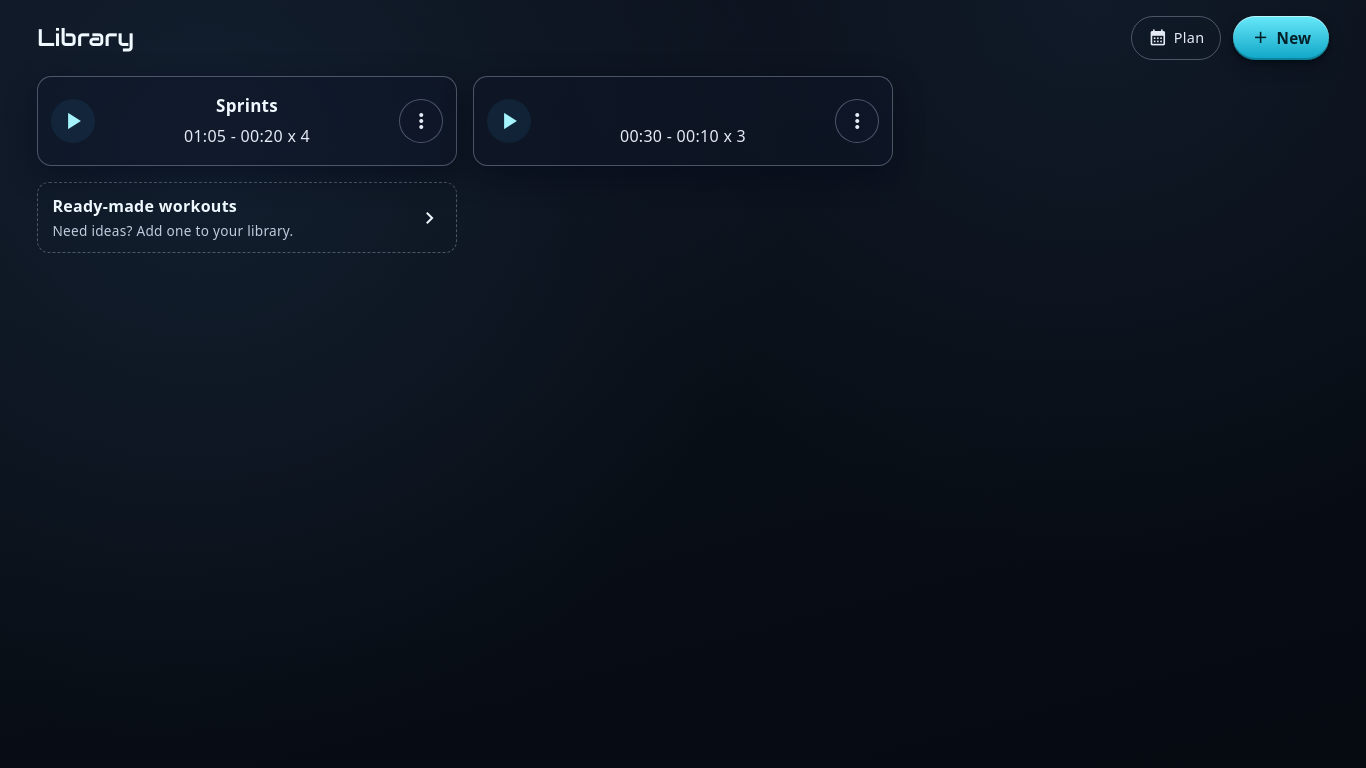
it: WorkoutLibraryComponent › with workouts › details › lists its runs, newest first, linking to them in the history
Click the 1st button with class "workout-card__action--menu" at (421, 121), box [399,99,443,143]
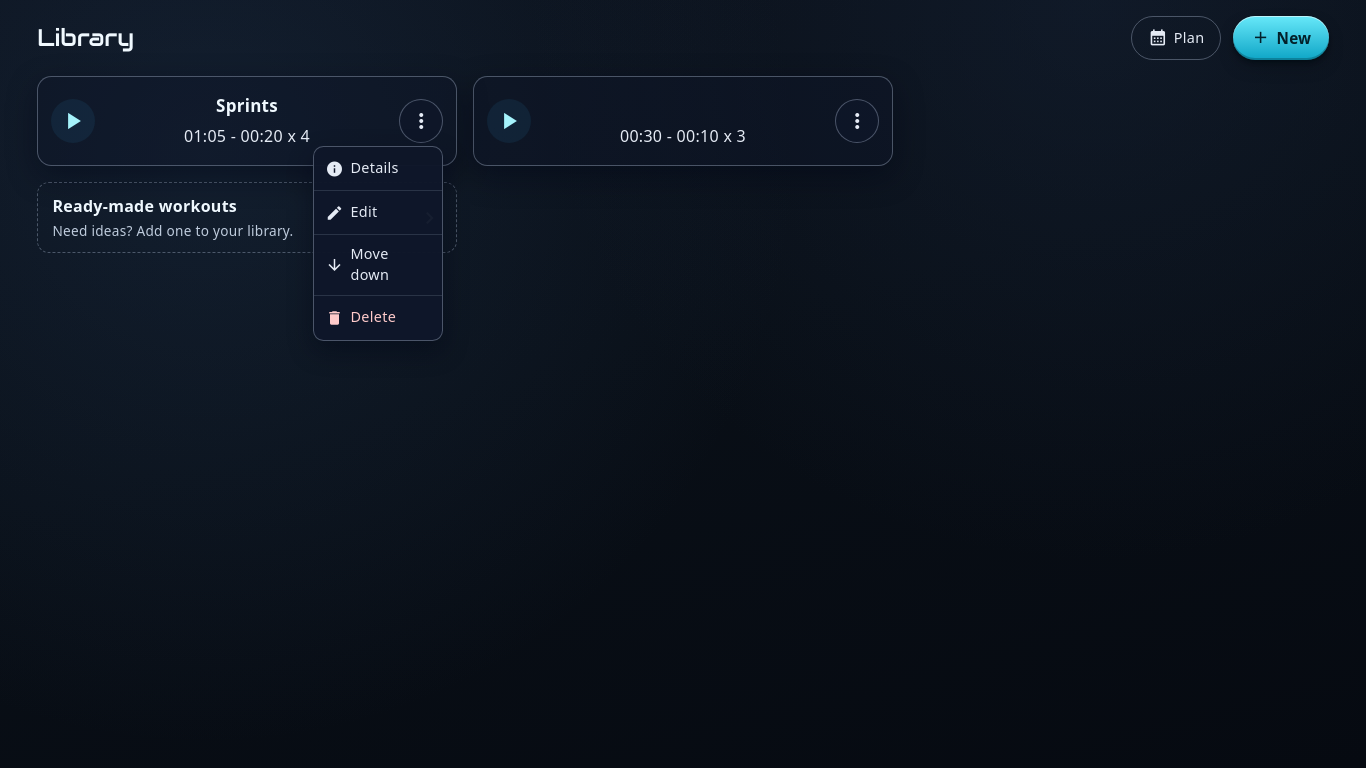
Expected: the button with class "workout-card__menu-item--details" is shown
Click the button with class "workout-card__menu-item--details" at (378, 169), box [314,147,442,191]
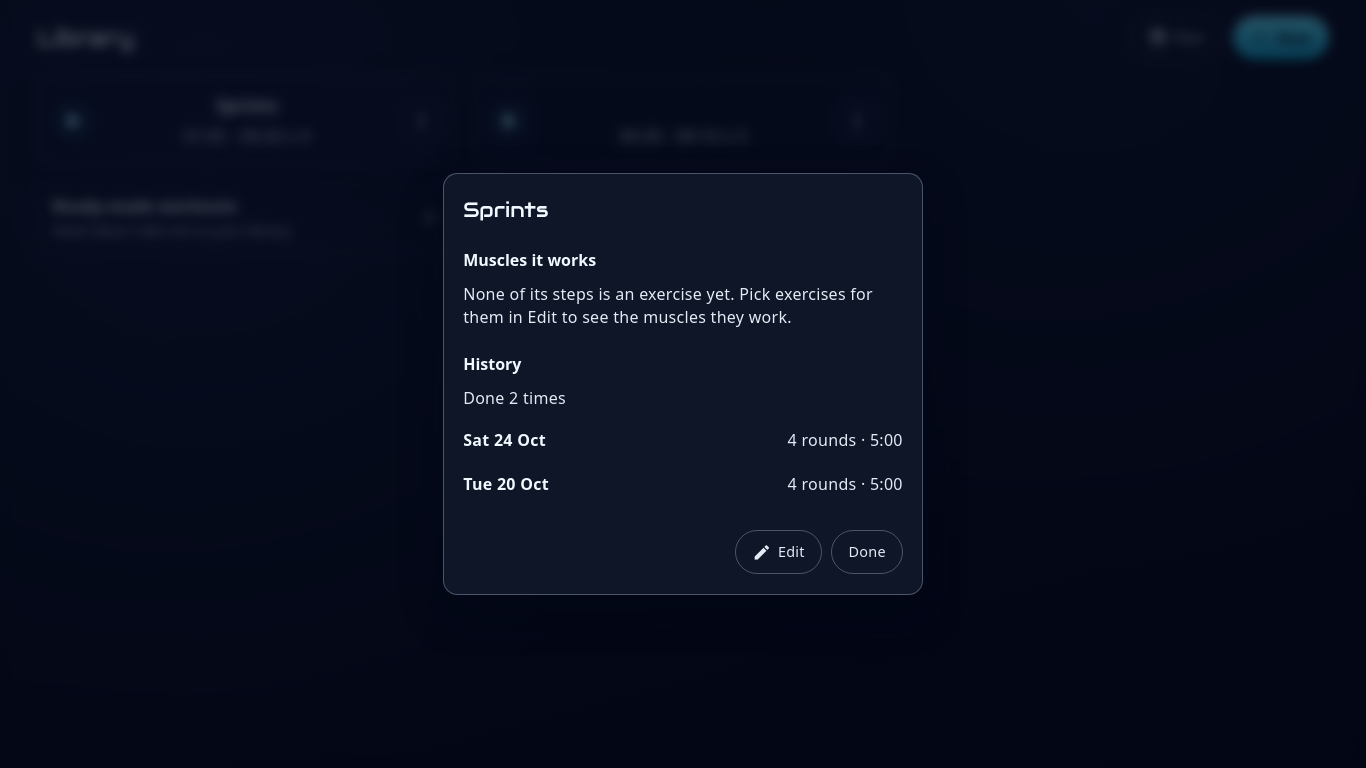
Expected: the dialog shows "Done 2 times", [463,387,566,409]
